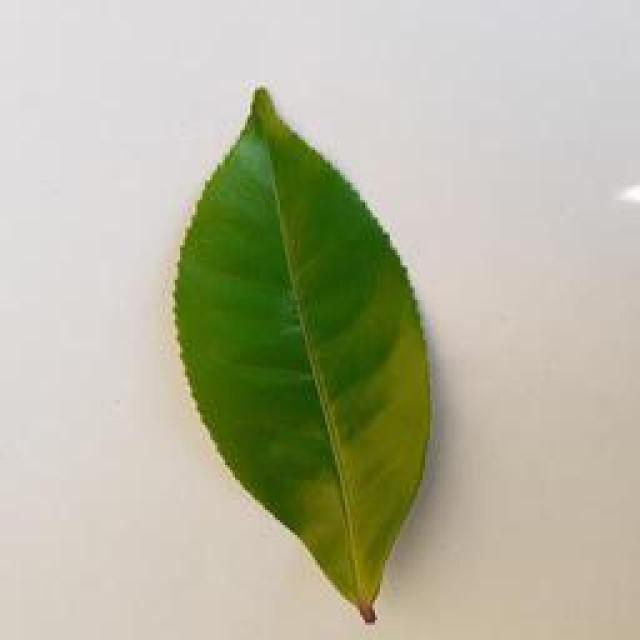Healthy: (164, 74, 446, 626)
